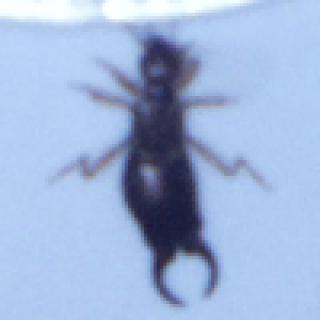earwig: (45, 15, 276, 310)
